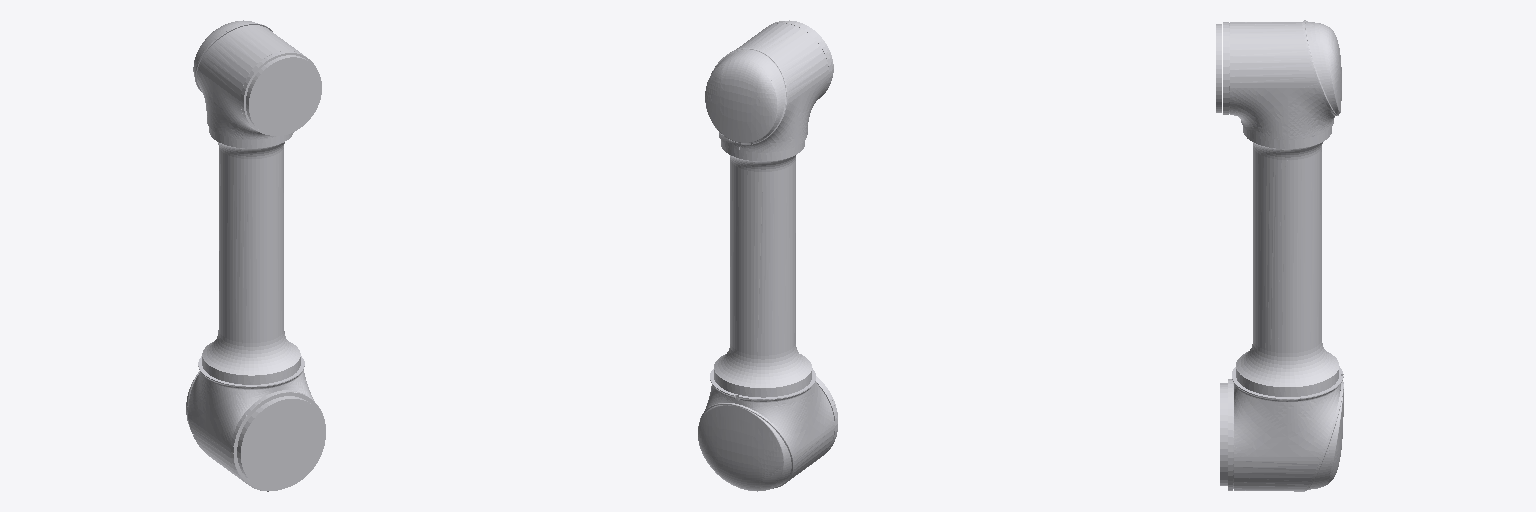
robot.urdf — gcr20_1400:
<?xml version="1.0" encoding="utf-8"?>
<!-- This URDF was automatically created by SolidWorks to URDF Exporter! Originally created by [author] ([email redacted]) 
     Commit Version: 1.6.0-4-g7f85cfe  Build Version: 1.6.7995.38578
     For more information, please see http://wiki.ros.org/sw_urdf_exporter -->
<robot
  name="gcr20_1400">
  <link
    name="base_link">
    <inertial>
      <origin
        xyz="1.0276E-05 0.014119 0.064841"
        rpy="0 0 0" />
      <mass
        value="2.124" />
      <inertia
        ixx="0.013624"
        ixy="-1.2075E-05"
        ixz="1.8225E-06"
        iyy="0.018307"
        iyz="0.00049878"
        izz="0.023934" />
    </inertial>
    <visual>
      <origin
        xyz="0 0 0"
        rpy="0 0 0" />
      <geometry>
        <mesh
          filename="package://duco_support/meshes/GCR20_1400/base_link.stl" />
      </geometry>
      <material
        name="">
        <color
          rgba="0.79216 0.81961 0.93333 1" />
      </material>
    </visual>
    <collision>
      <origin
        xyz="0 0 0"
        rpy="0 0 0" />
      <geometry>
        <mesh
          filename="package://duco_support/meshes/GCR20_1400/base_link.stl" />
      </geometry>
    </collision>
  </link>
  <link
    name="link_1">
    <inertial>
      <origin
        xyz="1.0951E-07 0.021145 0.0017549"
        rpy="0 0 0" />
      <mass
        value="14.725" />
      <inertia
        ixx="0.066928"
        ixy="3.4809E-07"
        ixz="2.7188E-07"
        iyy="0.06743"
        iyz="-0.0064955"
        izz="0.071272" />
    </inertial>
    <visual>
      <origin
        xyz="0 0 0"
        rpy="0 0 0" />
      <geometry>
        <mesh
          filename="package://duco_support/meshes/GCR20_1400/link_1.stl" />
      </geometry>
      <material
        name="">
        <color
          rgba="0.86667 0.86667 0.8902 1" />
      </material>
    </visual>
    <collision>
      <origin
        xyz="0 0 0"
        rpy="0 0 0" />
      <geometry>
        <mesh
          filename="package://duco_support/meshes/GCR20_1400/link_1.stl" />
      </geometry>
    </collision>
  </link>
  <joint
    name="arm_1_joint_1"
    type="revolute">
    <origin
      xyz="0 0 0.235"
      rpy="0 0 0" />
    <parent
      link="base_link" />
    <child
      link="link_1" />
    <axis
      xyz="0 0 1" />
    <limit
      lower="-3.1415926"
      upper="3.1415926"
      effort="850"
      velocity="2.094395102" />
  </joint>
  <link
    name="link_2">
    <inertial>
      <origin
        xyz="0.26683 -6.4559E-07 0.03758"
        rpy="0 0 0" />
      <mass
        value="26.574" />
      <inertia
        ixx="0.12151"
        ixy="-9.4271E-07"
        ixz="-0.0039858"
        iyy="0.31751"
        iyz="1.1587E-06"
        izz="0.32042" />
    </inertial>
    <visual>
      <origin
        xyz="0 0 0"
        rpy="0 0 0" />
      <geometry>
        <mesh
          filename="package://duco_support/meshes/GCR20_1400/link_2.stl" />
      </geometry>
      <material
        name="">
        <color
          rgba="0.86667 0.86667 0.8902 1" />
      </material>
    </visual>
    <collision>
      <origin
        xyz="0 0 0"
        rpy="0 0 0" />
      <geometry>
        <mesh
          filename="package://duco_support/meshes/GCR20_1400/link_2.stl" />
      </geometry>
    </collision>
  </link>
  <joint
    name="arm_1_joint_2"
    type="revolute">
    <origin
      xyz="0 0.1793 0"
      rpy="1.5708 -1.5708 3.1416" />
    <parent
      link="link_1" />
    <child
      link="link_2" />
    <axis
      xyz="0 0 1" />
    <limit
      lower="-3.1415926"
      upper="3.1415926"
      effort="850"
      velocity="2.094395102" />
  </joint>
  <link
    name="link_3">
    <inertial>
      <origin
        xyz="0.27202 -1.2656E-07 -0.13396"
        rpy="0 0 0" />
      <mass
        value="8.026" />
      <inertia
        ixx="0.03235"
        ixy="1.5004E-07"
        ixz="0.0014216"
        iyy="0.17803"
        iyz="-3.8462E-08"
        izz="0.17857" />
    </inertial>
    <visual>
      <origin
        xyz="0 0 0"
        rpy="0 0 0" />
      <geometry>
        <mesh
          filename="package://duco_support/meshes/GCR20_1400/link_3.stl" />
      </geometry>
      <material
        name="">
        <color
          rgba="0.86667 0.86667 0.8902 1" />
      </material>
    </visual>
    <collision>
      <origin
        xyz="0 0 0"
        rpy="0 0 0" />
      <geometry>
        <mesh
          filename="package://duco_support/meshes/GCR20_1400/link_3.stl" />
      </geometry>
    </collision>
  </link>
  <joint
    name="arm_1_joint_3"
    type="revolute">
    <origin
      xyz="0.646 0 0"
      rpy="0 0 0" />
    <parent
      link="link_2" />
    <child
      link="link_3" />
    <axis
      xyz="0 0 1" />
    <limit
      lower="-3.1415926"
      upper="3.1415926"
      effort="440"
      velocity="3.1415926" />
  </joint>
  <link
    name="link_4">
    <inertial>
      <origin
        xyz="-8.6886E-07 -0.0018438 -0.014004"
        rpy="0 0 0" />
      <mass
        value="4.705" />
      <inertia
        ixx="0.008699"
        ixy="-6.6551E-08"
        ixz="1.54E-08"
        iyy="0.0082917"
        iyz="0.00074702"
        izz="0.0086035" />
    </inertial>
    <visual>
      <origin
        xyz="0 0 0"
        rpy="0 0 0" />
      <geometry>
        <mesh
          filename="package://duco_support/meshes/GCR20_1400/link_4.stl" />
      </geometry>
      <material
        name="">
        <color
          rgba="0.86667 0.86667 0.8902 1" />
      </material>
    </visual>
    <collision>
      <origin
        xyz="0 0 0"
        rpy="0 0 0" />
      <geometry>
        <mesh
          filename="package://duco_support/meshes/GCR20_1400/link_4.stl" />
      </geometry>
    </collision>
  </link>
  <joint
    name="arm_1_joint_4"
    type="revolute">
    <origin
      xyz="0.6095 0 0"
      rpy="0 0 1.5708" />
    <parent
      link="link_3" />
    <child
      link="link_4" />
    <axis
      xyz="0 0 1" />
    <limit
      lower="-3.1415926"
      upper="3.1415926"
      effort="205"
      velocity="3.926990817" />
  </joint>
  <link
    name="link_5">
    <inertial>
      <origin
        xyz="-2.7326E-07 0.0017736 -0.014021"
        rpy="0 0 0" />
      <mass
        value="4.705" />
      <inertia
        ixx="0.008699"
        ixy="1.3782E-07"
        ixz="-1.0745E-07"
        iyy="0.0082917"
        iyz="-0.00074702"
        izz="0.0086035" />
    </inertial>
    <visual>
      <origin
        xyz="0 0 0"
        rpy="0 0 0" />
      <geometry>
        <mesh
          filename="package://duco_support/meshes/GCR20_1400/link_5.stl" />
      </geometry>
      <material
        name="">
        <color
          rgba="0.86667 0.86667 0.8902 1" />
      </material>
    </visual>
    <collision>
      <origin
        xyz="0 0 0"
        rpy="0 0 0" />
      <geometry>
        <mesh
          filename="package://duco_support/meshes/GCR20_1400/link_5.stl" />
      </geometry>
    </collision>
  </link>
  <joint
    name="arm_1_joint_5"
    type="revolute">
    <origin
      xyz="0 -0.1445 0"
      rpy="1.5708 0 0" />
    <parent
      link="link_4" />
    <child
      link="link_5" />
    <axis
      xyz="0 0 1" />
    <limit
      lower="-3.1415926"
      upper="3.1415926"
      effort="205"
      velocity="3.926990817" />
  </joint>
  <link
    name="link_6">
    <inertial>
      <origin
        xyz="2.5475E-07 2.1811E-06 -0.032583"
        rpy="0 0 0" />
      <mass
        value="1.652" />
      <inertia
        ixx="0.0005778"
        ixy="-5.4504E-10"
        ixz="-1.9167E-10"
        iyy="0.00057716"
        iyz="-1.2832E-07"
        izz="0.00098208" />
    </inertial>
    <visual>
      <origin
        xyz="0 0 0"
        rpy="0 0 0" />
      <geometry>
        <mesh
          filename="package://duco_support/meshes/GCR20_1400/link_6.stl" />
      </geometry>
      <material
        name="">
        <color
          rgba="0.79216 0.81961 0.93333 1" />
      </material>
    </visual>
    <collision>
      <origin
        xyz="0 0 0"
        rpy="0 0 0" />
      <geometry>
        <mesh
          filename="package://duco_support/meshes/GCR20_1400/link_6.stl" />
      </geometry>
    </collision>
  </link>
  <joint
    name="arm_1_joint_6"
    type="revolute">
    <origin
      xyz="0 0.121 0"
      rpy="-1.5708 0 0" />
    <parent
      link="link_5" />
    <child
      link="link_6" />
    <axis
      xyz="0 0 1" />
    <limit
      lower="-3.1415926"
      upper="3.1415926"
      effort="205"
      velocity="3.926990817" />
  </joint>
</robot>

--- Facts derived from the render (not from the file) ---
Views: 3 orthographic renders of the robot side by side, from view 1: azimuth 30°, elevation 25°; view 2: azimuth 150°, elevation 25°; view 3: azimuth 270°, elevation 25°.
Model gcr20_1400 with 7 links and 6 joints (6 revolute), rooted at base_link, posed all joints at 0.
Links seen in each view (by area): view 1: link_2; view 2: link_2; view 3: link_2.
Boxes of the visible links, x1=… form: link_2: x1=186, y1=20, x2=325, y2=491; link_2: x1=698, y1=20, x2=837, y2=491; link_2: x1=1216, y1=20, x2=1343, y2=491.
Bounding box of the posed robot: 0.1807 × 0.2046 × 0.817 m (x, y, z).
Meshes: 7 distinct files referenced, 1 mesh visuals loaded (1 binary STL); not drawn: 6 (reference not matched to a file when rendering).